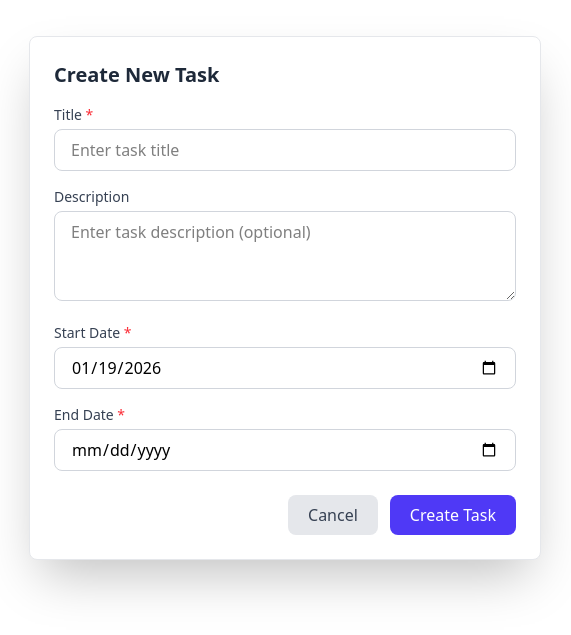
it: AddTaskModal › Create Mode › should validate required fields
Click the button "Create Task". click: x=453, y=515
box: [390,495,516,535]
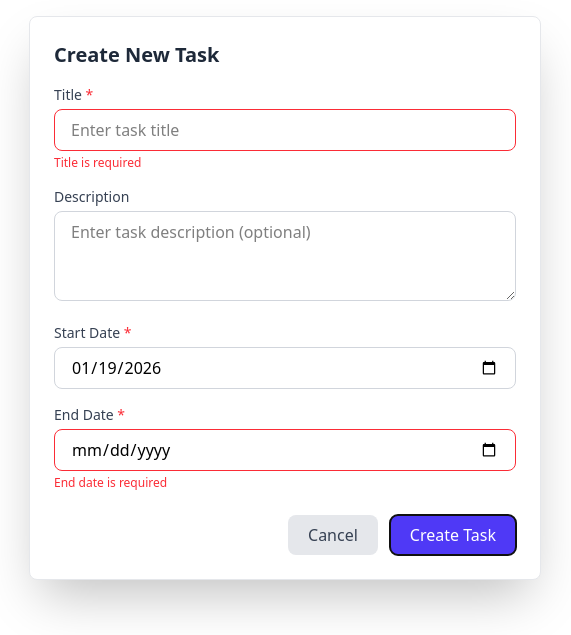
Result: the text "Title is required" is shown at [54,154,141,171]
